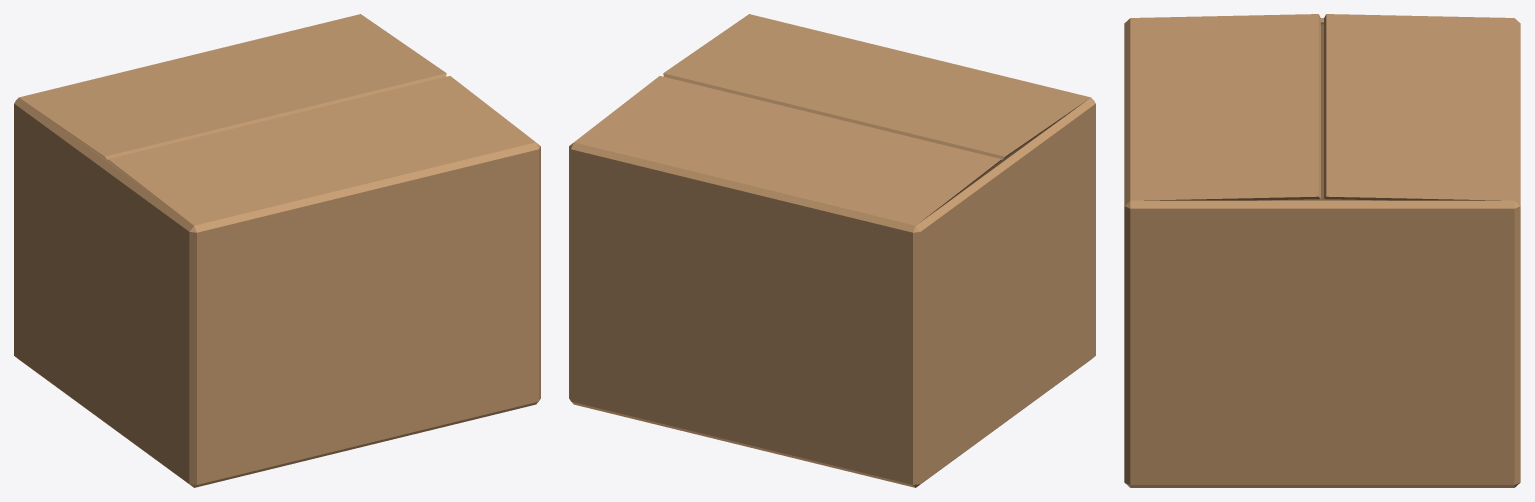
File: CartonFerme.fbx
3 renders of one model, left to right at view 1: azimuth 30°, elevation 25°; view 2: azimuth 150°, elevation 25°; view 3: azimuth 270°, elevation 25°, orthographic. The views are drawn at different scales.
Visible parts, largest first — view 1: CartonFerme; view 2: CartonFerme; view 3: CartonFerme.
Part boxes in pixels (left/top/right/bottom): CartonFerme: left=14, top=14, right=540, bottom=487; CartonFerme: left=569, top=14, right=1095, bottom=487; CartonFerme: left=1124, top=14, right=1520, bottom=487.
Bounding box in the file's own units: 51.76 × 37.42 × 46.13.
